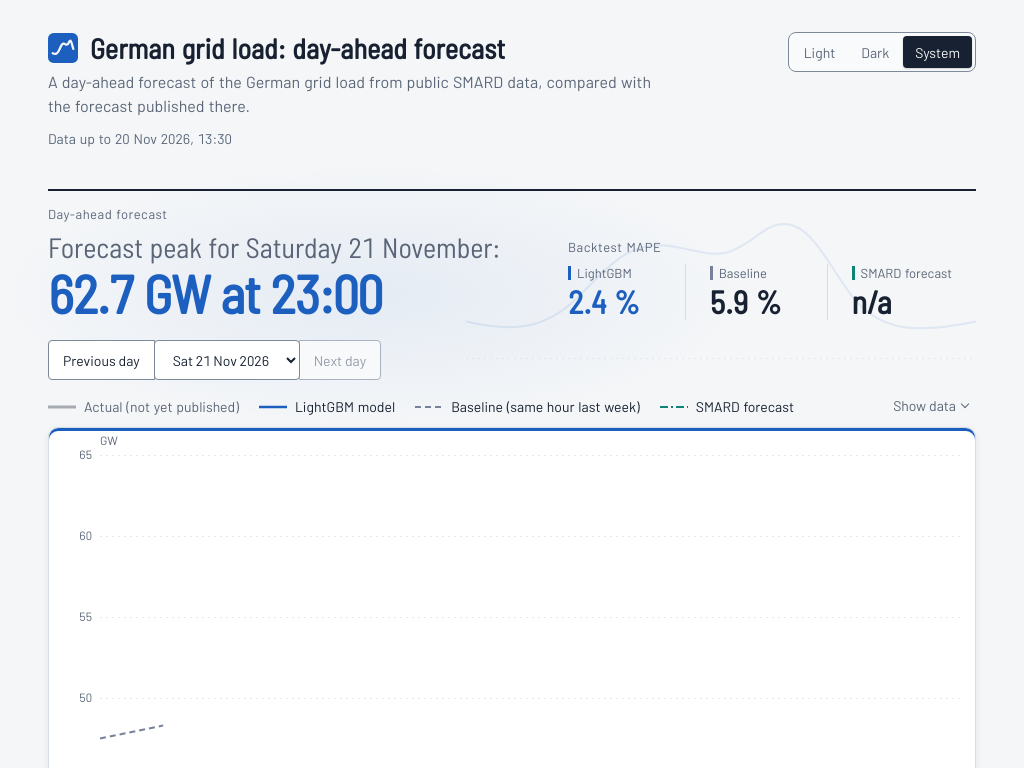
Test: Dashboard with data › computes this day errors client-side and walks through the days
Expected: the button "Next day" is disabled, [299, 340, 381, 380]
Click the button "Previous day" at (101, 360), box [48, 340, 155, 380]
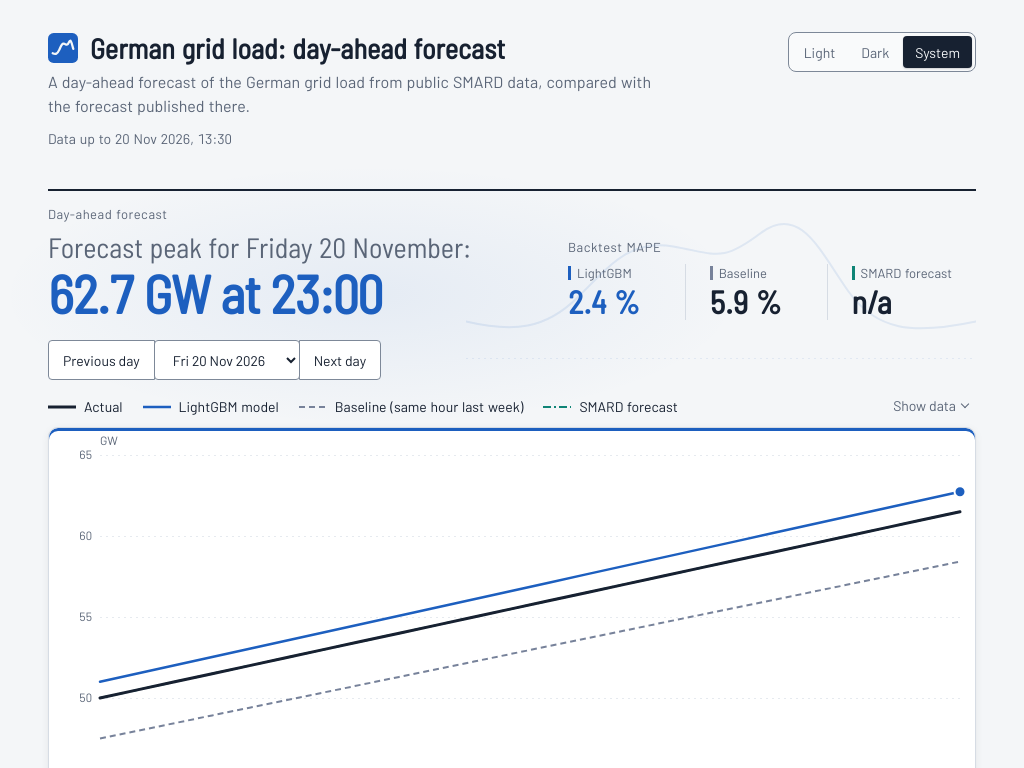
Expected: the text "Forecast peak for Friday 20 November:" is shown, [48, 231, 471, 265]
Click the button "Next day" at (340, 360), box [299, 340, 381, 380]
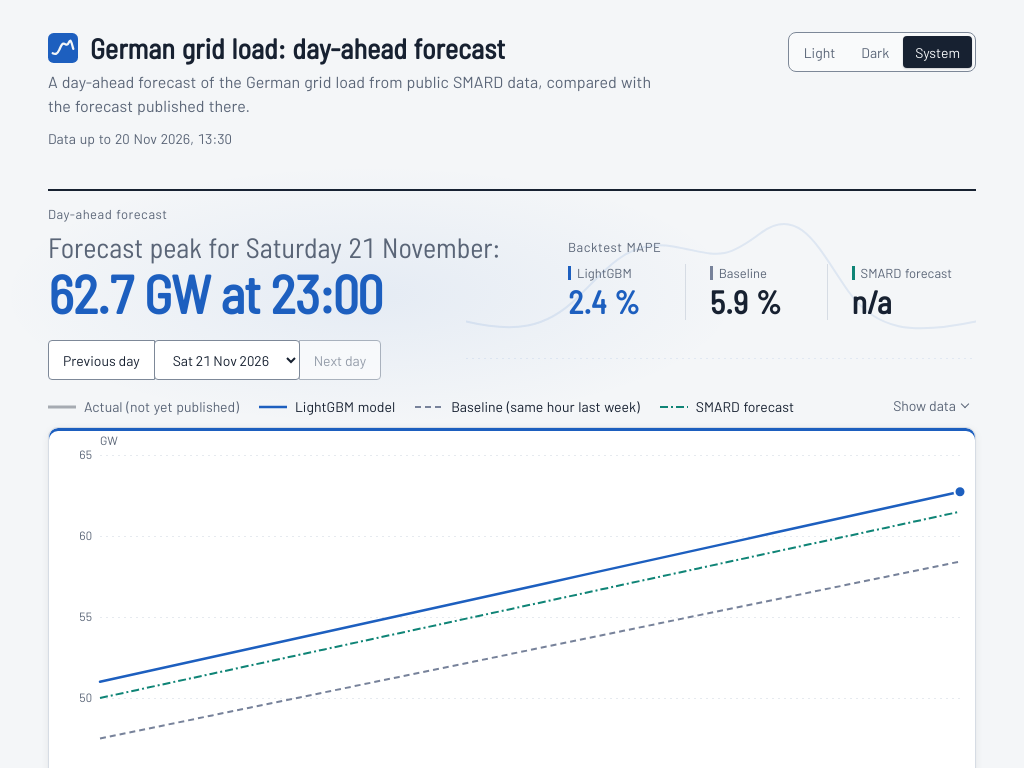
Expected: the text "Forecast peak for Saturday 21 November:" is shown, [48, 231, 500, 265]
